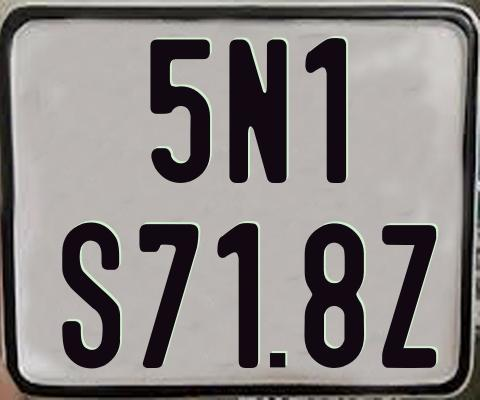1: (214, 223, 261, 370), (302, 35, 345, 182)
5: (148, 37, 212, 184)
7: (137, 224, 196, 374)
8: (301, 222, 362, 372)
N: (226, 36, 290, 182)
S: (60, 221, 123, 370)
Z: (379, 225, 434, 369)
